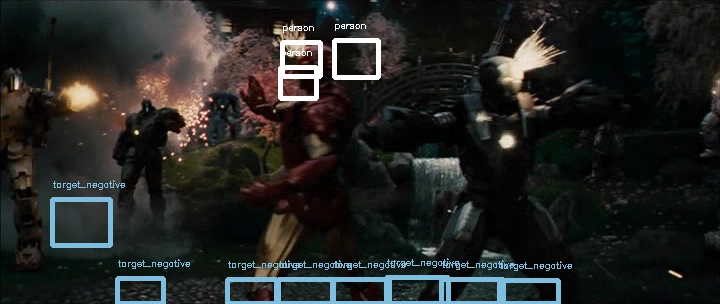person: (290, 42, 333, 85), (289, 42, 332, 85), (291, 42, 334, 85), (290, 41, 333, 84), (290, 43, 333, 86)
target_negative: (224, 23, 565, 157), (510, 81, 677, 223), (237, 142, 456, 198), (586, 50, 703, 101), (566, 48, 639, 128), (675, 274, 680, 304)
